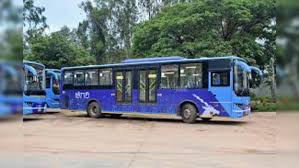Chigari: (56, 56, 262, 125), (14, 53, 47, 119), (48, 63, 59, 115)
